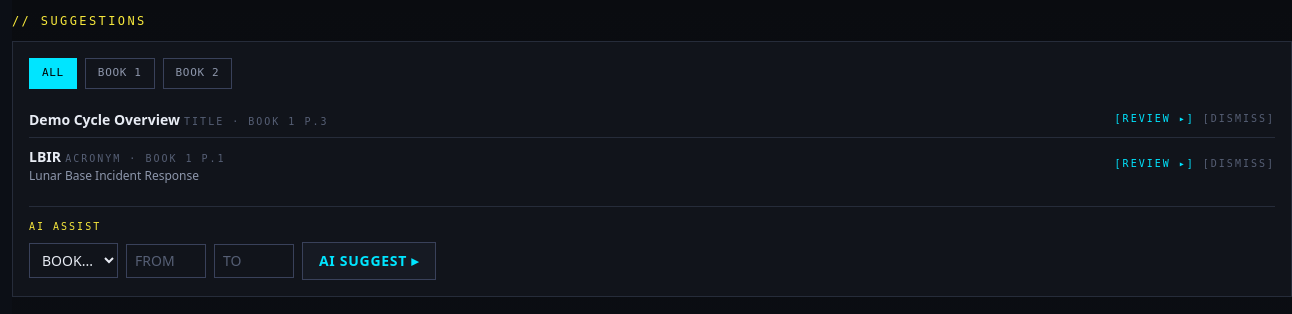
Test: dismiss hides the suggestion and persists the key
Check: the text "Demo Cycle Overview" is shown, box 29,110 -> 180,128
Click the button "[DISMISS]" in the row of "Demo Cycle Overview" at (1239, 118), box 1203,111 -> 1275,126
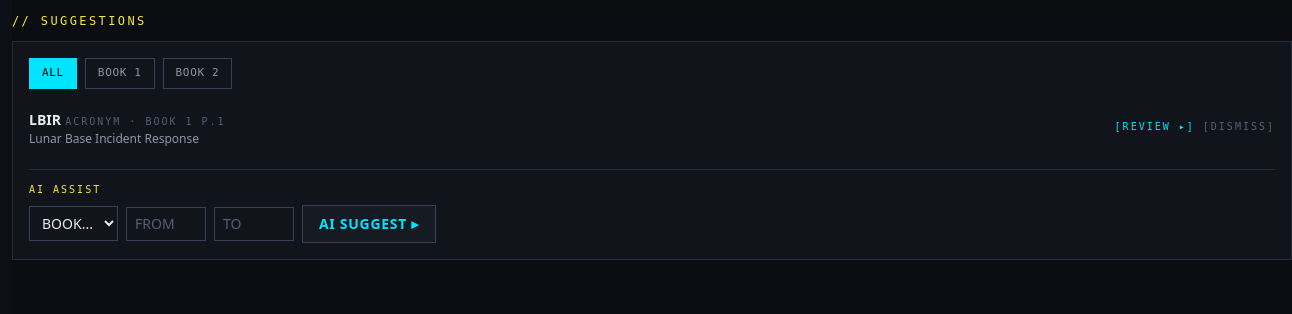
Check: the text "Demo Cycle Overview" is gone
